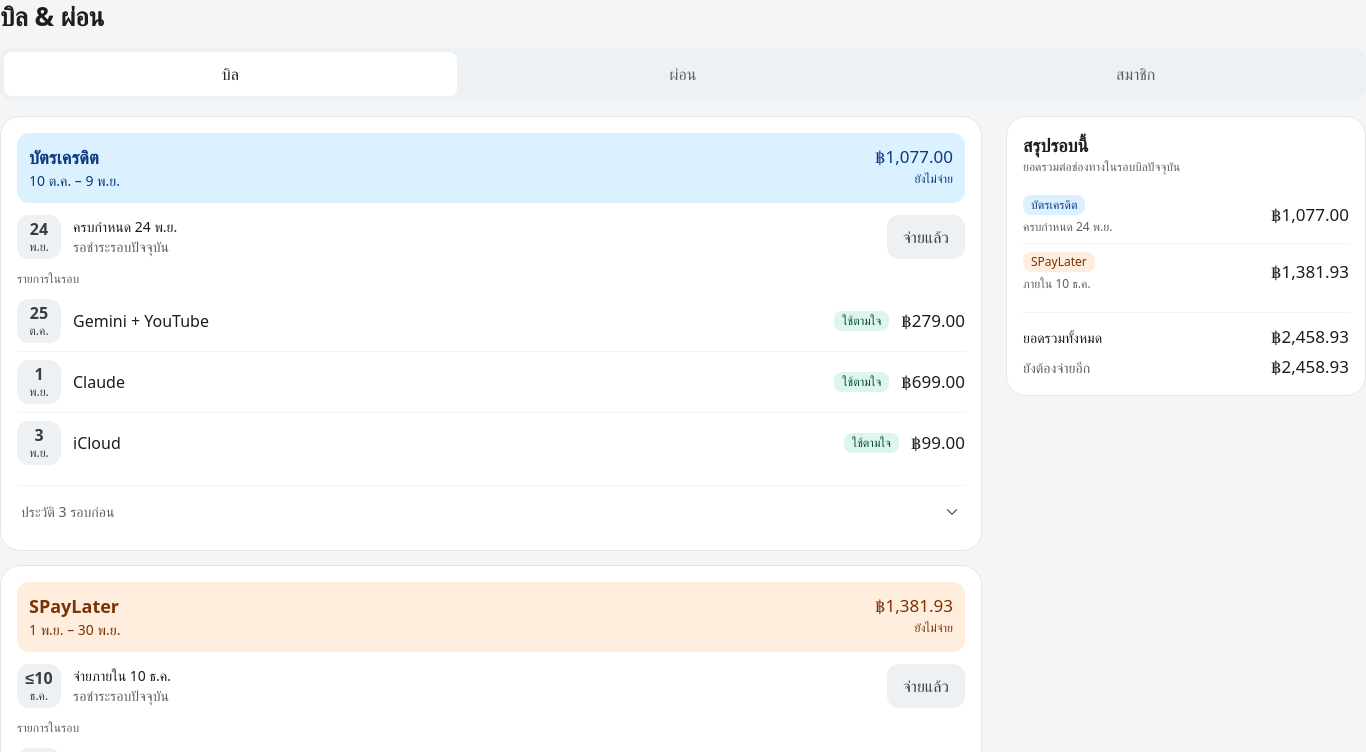
Test: <BillsPage> › แท็บผ่อน › shows over-budget warning before saving when simulated potStatus is over, and clears it when switch is off
Click the tab "ผ่อน": (683, 74) [457,52,909,96]
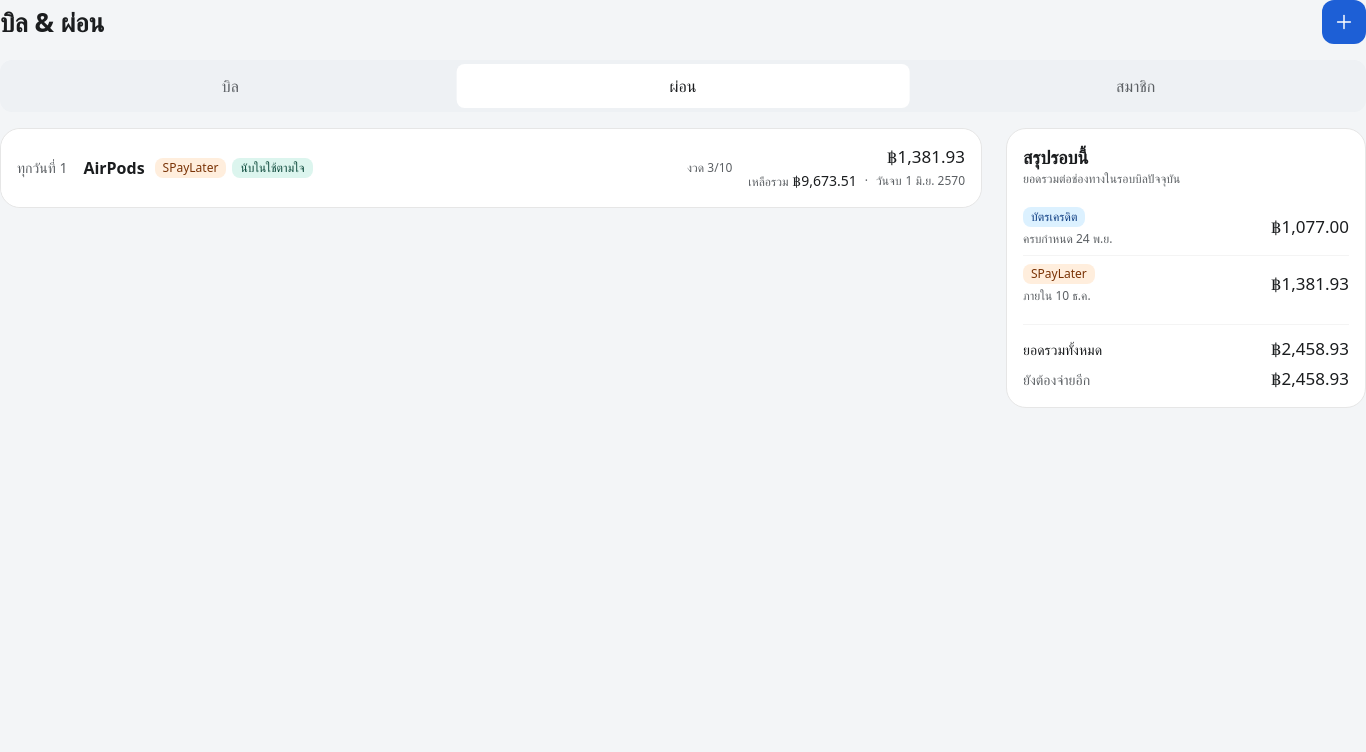
Click the button named "เพิ่มรายการผ่อน": (1344, 22) [1322,0,1365,44]
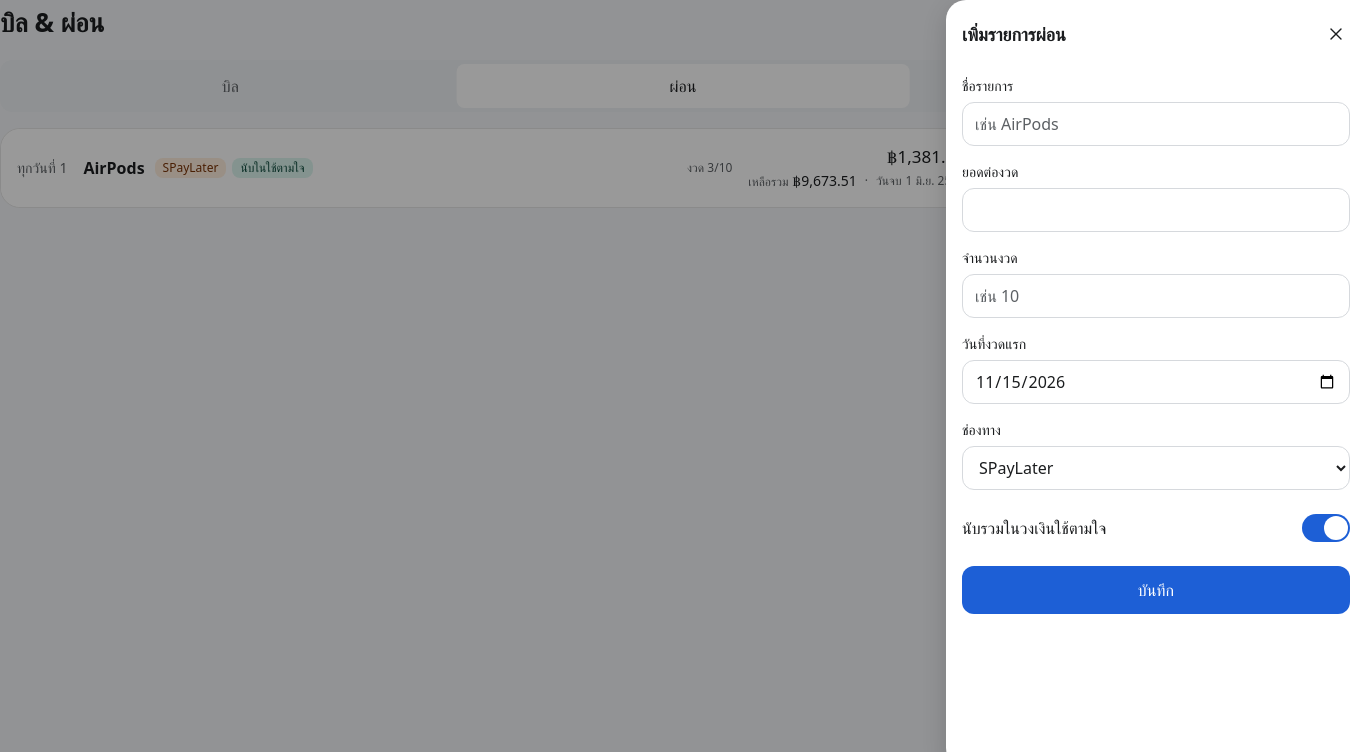
In the field labelled "ชื่อรายการ": (1156, 124) [962,102,1350,146], type "กล้อง"
In the field labelled "ยอดต่องวด": (1156, 210) [962,188,1350,232], type "1000"
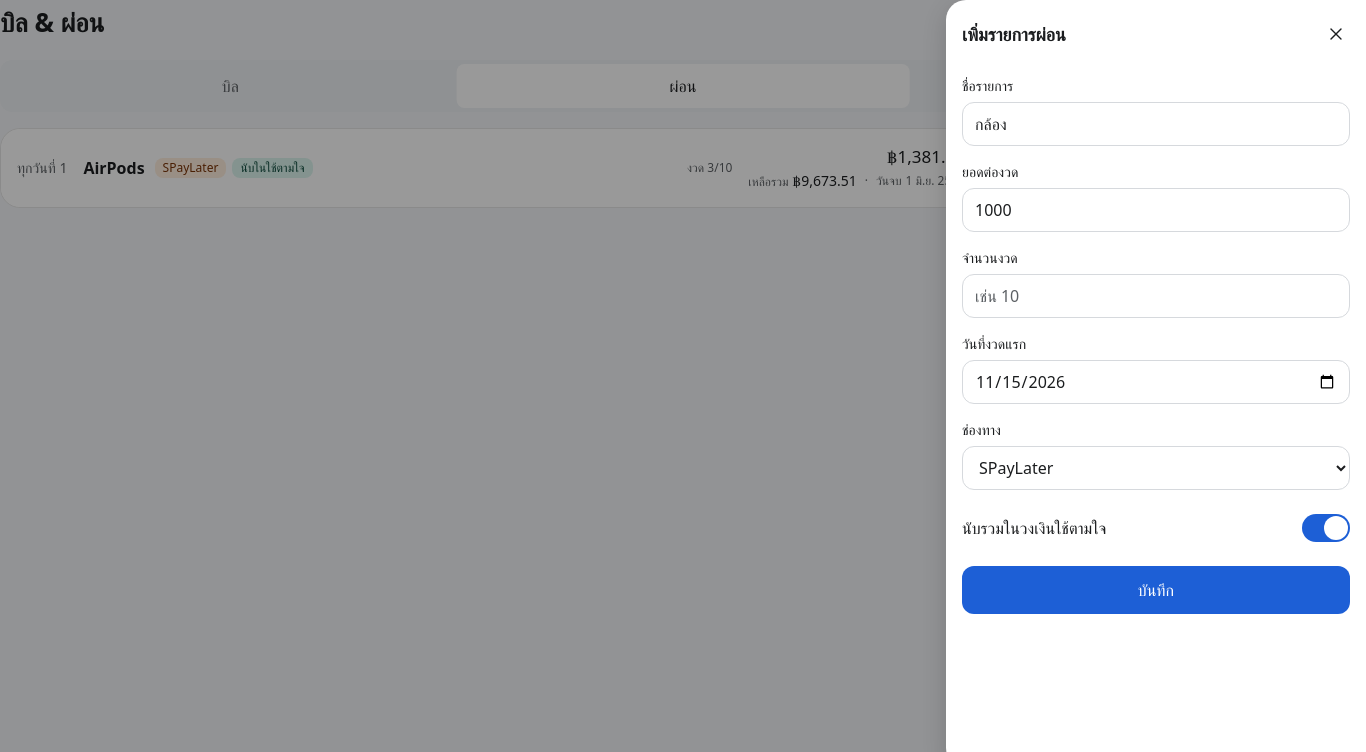
In the field labelled "จำนวนงวด": (1156, 296) [962,274,1350,318], type "3"
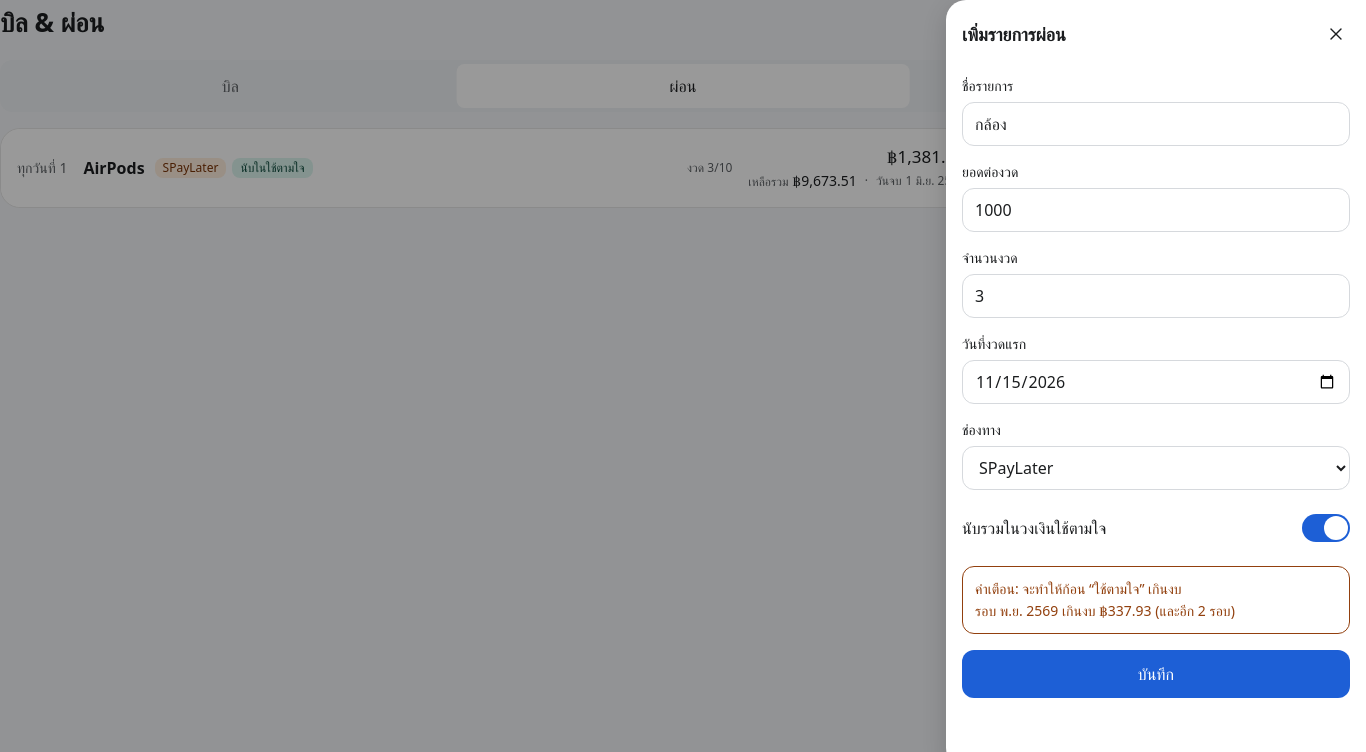
In the date field labelled "วันที่งวดแรก": (1156, 382) [962,360,1350,404], type "2026-11-01"
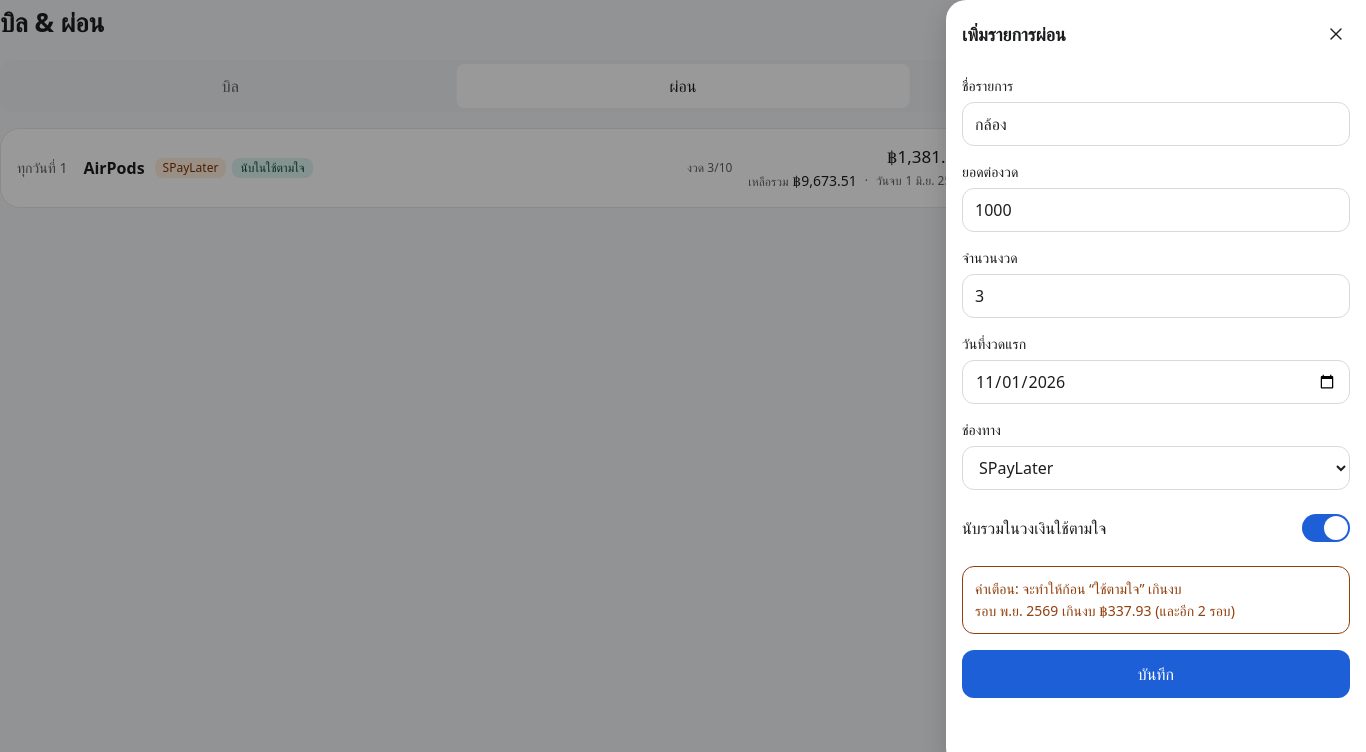
Check: the message shows "เกินงบ", box [1058,601,1096,620]
Click the switch labelled "นับรวมในวงเงินใช้ตามใจ": (1034, 528) [962,506,1350,550]
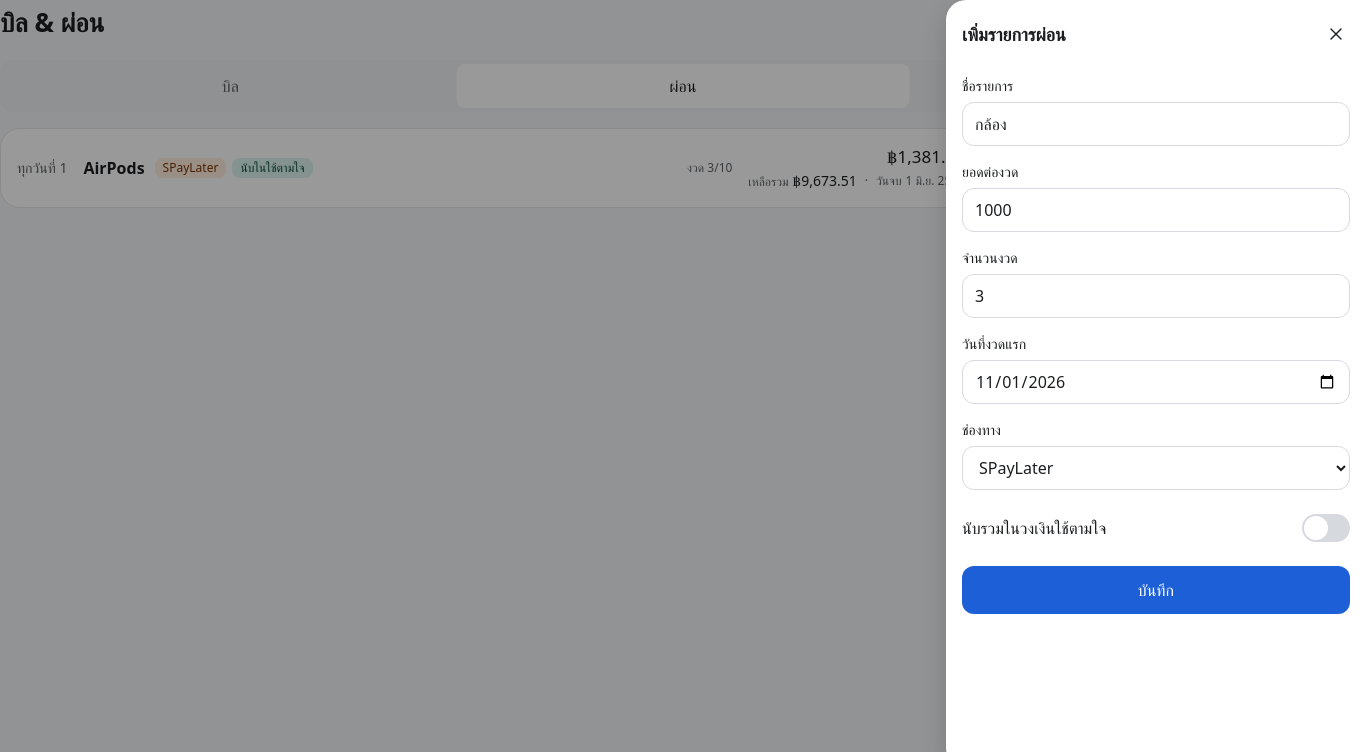
Check: the message is gone
